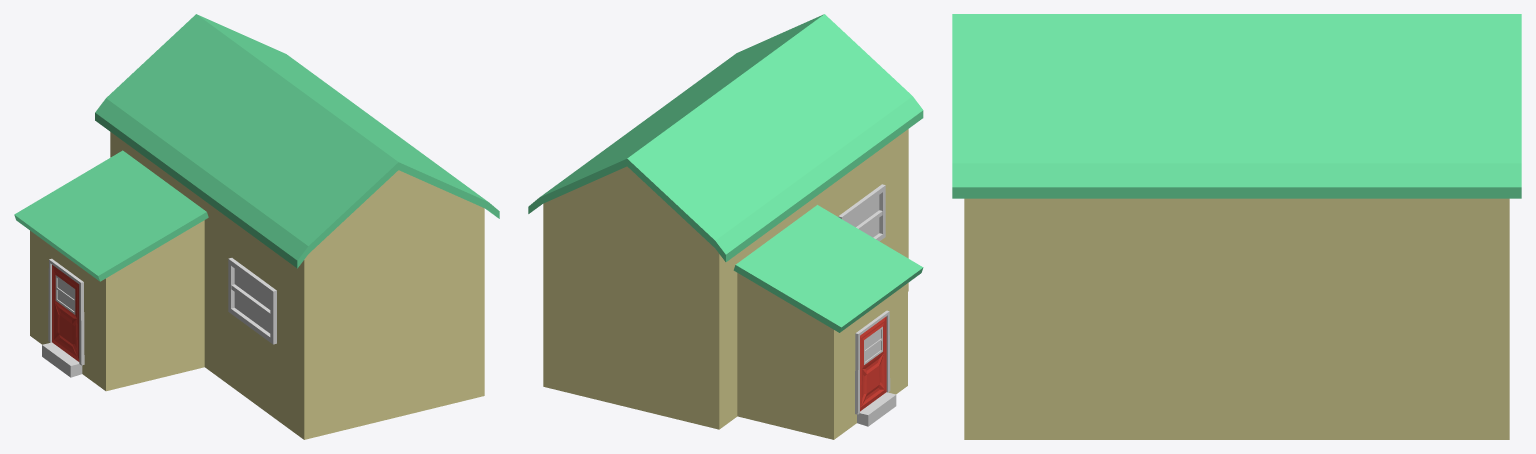
Rendered from house attempt.glb.
3 renders of one model, left to right at view 1: azimuth 30°, elevation 25°; view 2: azimuth 150°, elevation 25°; view 3: azimuth 270°, elevation 25°, orthographic. The views are drawn at different scales.
Parts seen in each view (by area): view 1: Cube; view 2: Cube; view 3: Cube.
Part boxes in pixels (x1=…): Cube: x1=14, y1=14, x2=499, y2=439; Cube: x1=528, y1=14, x2=923, y2=439; Cube: x1=952, y1=14, x2=1521, y2=439.
Bounding box in the file's own units: 12.33 × 10.13 × 14.31.
